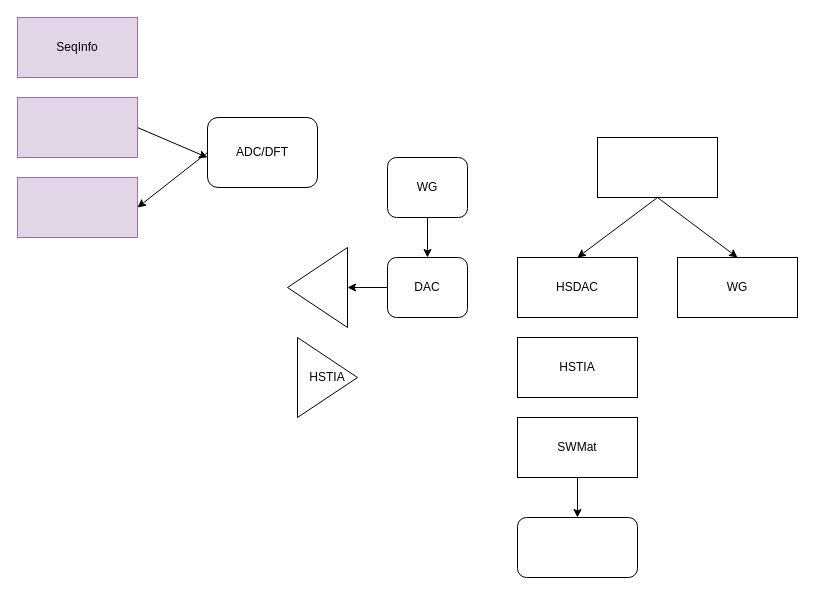
Some shapes in this 815 by 595 pixel diagram are drawn without their labels. The centre of each missing label's shape, as x and y in pixels:
D/P/N/T Swtich: the point at 577,547
Fifo: the point at 77,207
HSLoop: the point at 657,167
PGA: the point at 317,287
Seq: the point at 77,127
